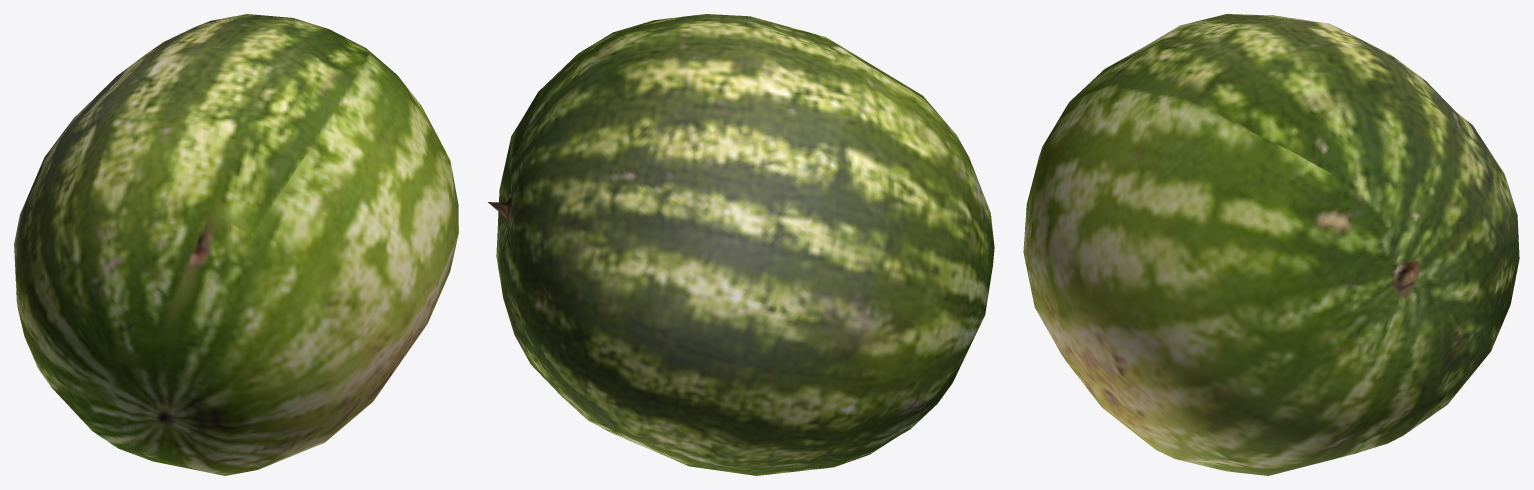
Rendered from SM_配餐室_水果蔬菜_12.fbx.
3 views of the same model, side by side, from view 1: azimuth 30°, elevation 25°; view 2: azimuth 150°, elevation 25°; view 3: azimuth 270°, elevation 25° (orthographic). The views are drawn at different scales.
Parts seen in each view (by area): view 1: SM_配餐室_水果蔬菜_12; view 2: SM_配餐室_水果蔬菜_12; view 3: SM_配餐室_水果蔬菜_12.
Boxes of the visible parts, x1,y1,x2,y2 form: SM_配餐室_水果蔬菜_12: (14, 14, 458, 475); SM_配餐室_水果蔬菜_12: (488, 14, 994, 475); SM_配餐室_水果蔬菜_12: (1023, 14, 1519, 475).
Bounding box in the file's own units: 236 × 217 × 228.
